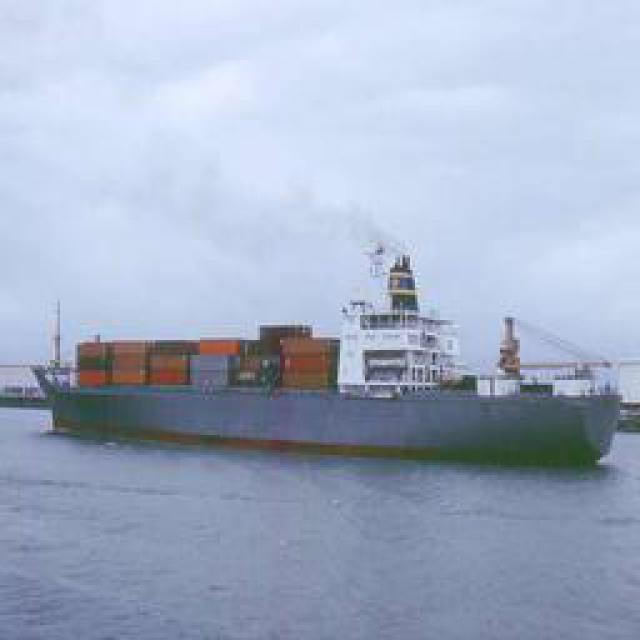Ship: (51, 256, 631, 466)
